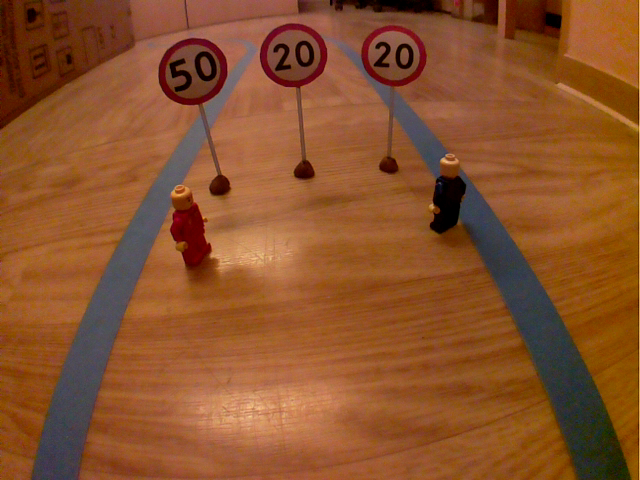Ograniczenie 20: (256, 20, 330, 91), (357, 21, 432, 89)
Ograniczenie 50: (154, 34, 232, 109)
Postac LEGO: (164, 182, 215, 273), (427, 144, 471, 240)
